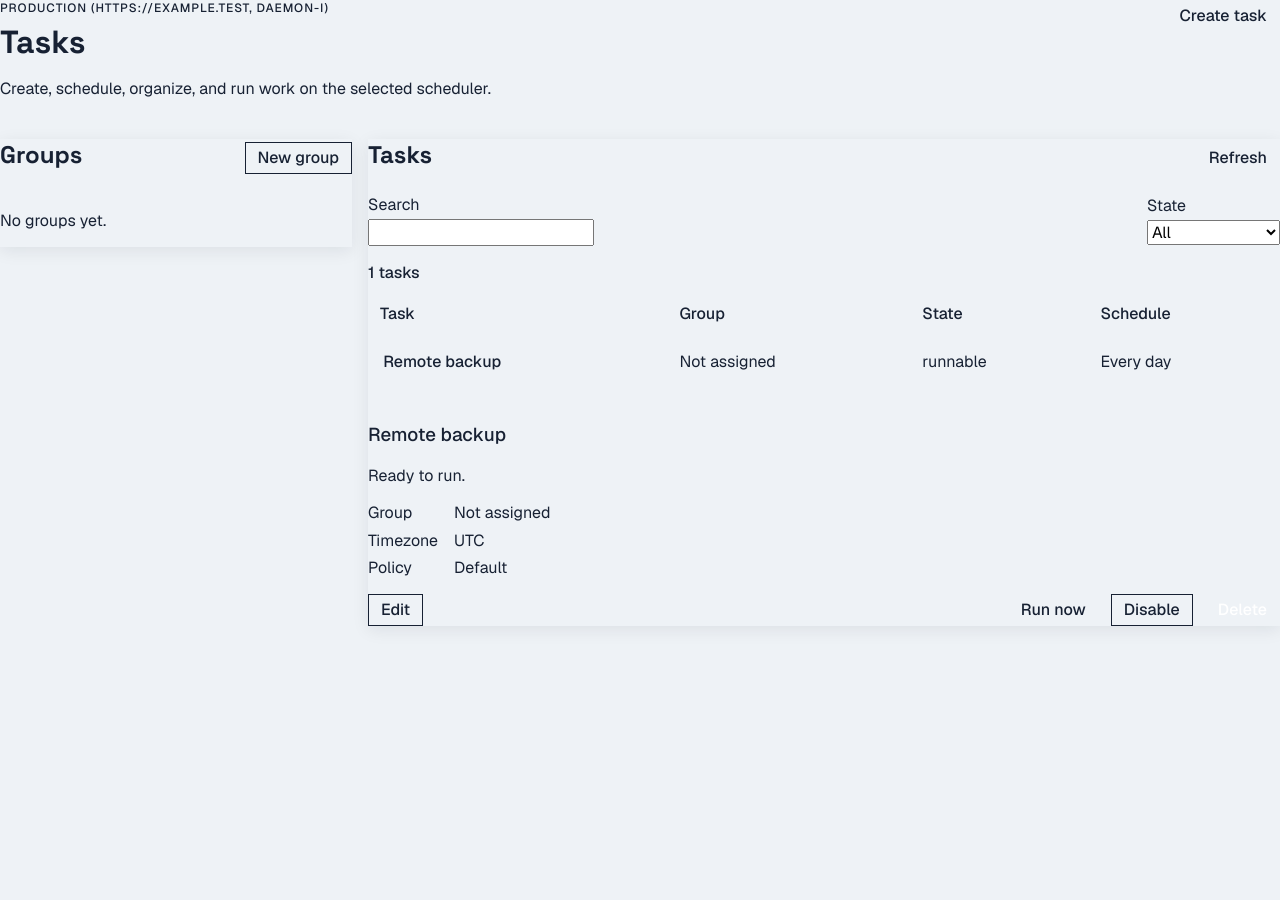
forwards remote target and capability boundaries through the populated workspace
Click the button "Remote backup" at coordinates (442, 361), box [380,348,504,375]
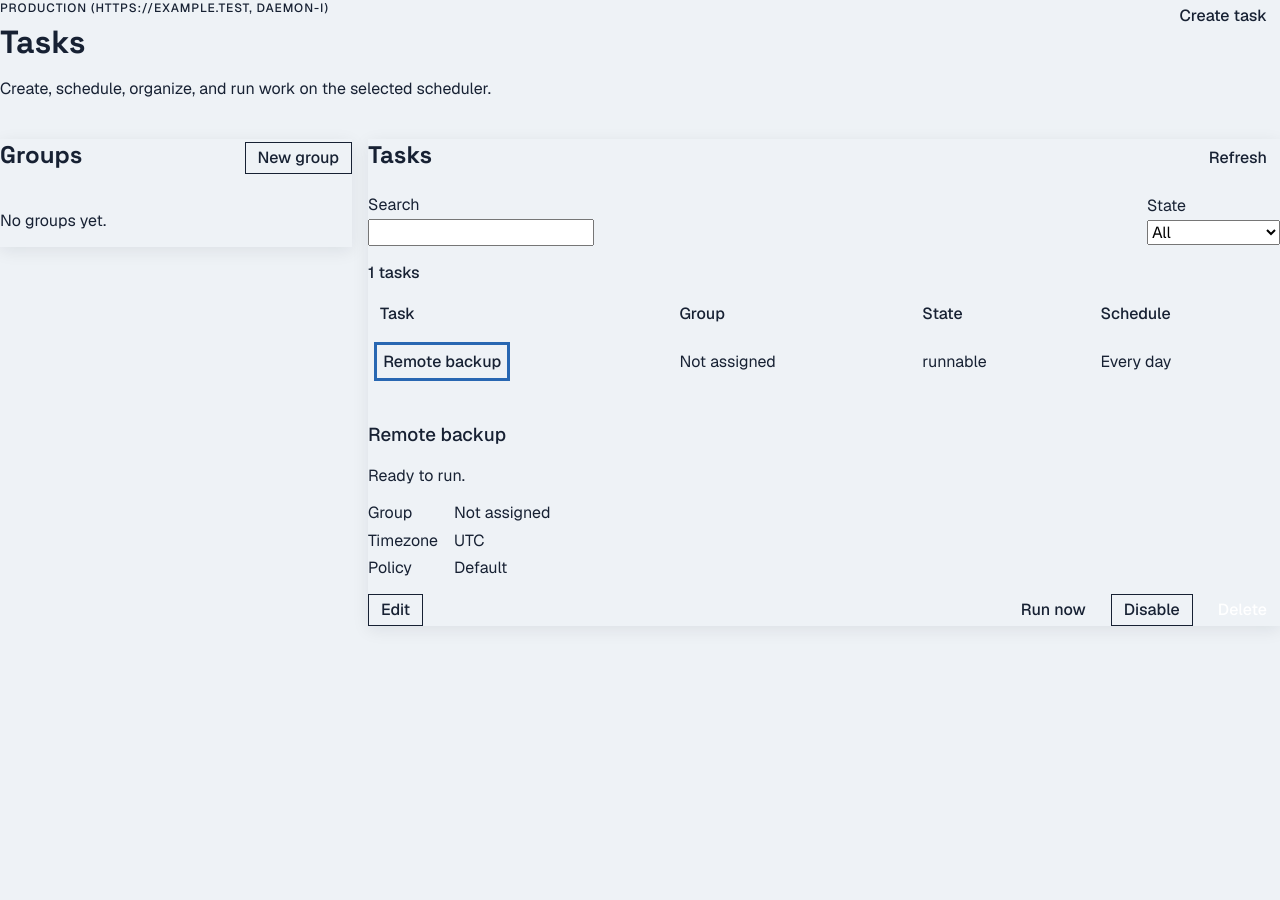
Expected: the button "New group" is disabled, [244,142,352,174]
Expected: the button "Edit" is disabled, [368,594,423,626]
Click the button "Create task" at coordinates (1223, 16), box [1167,0,1279,32]
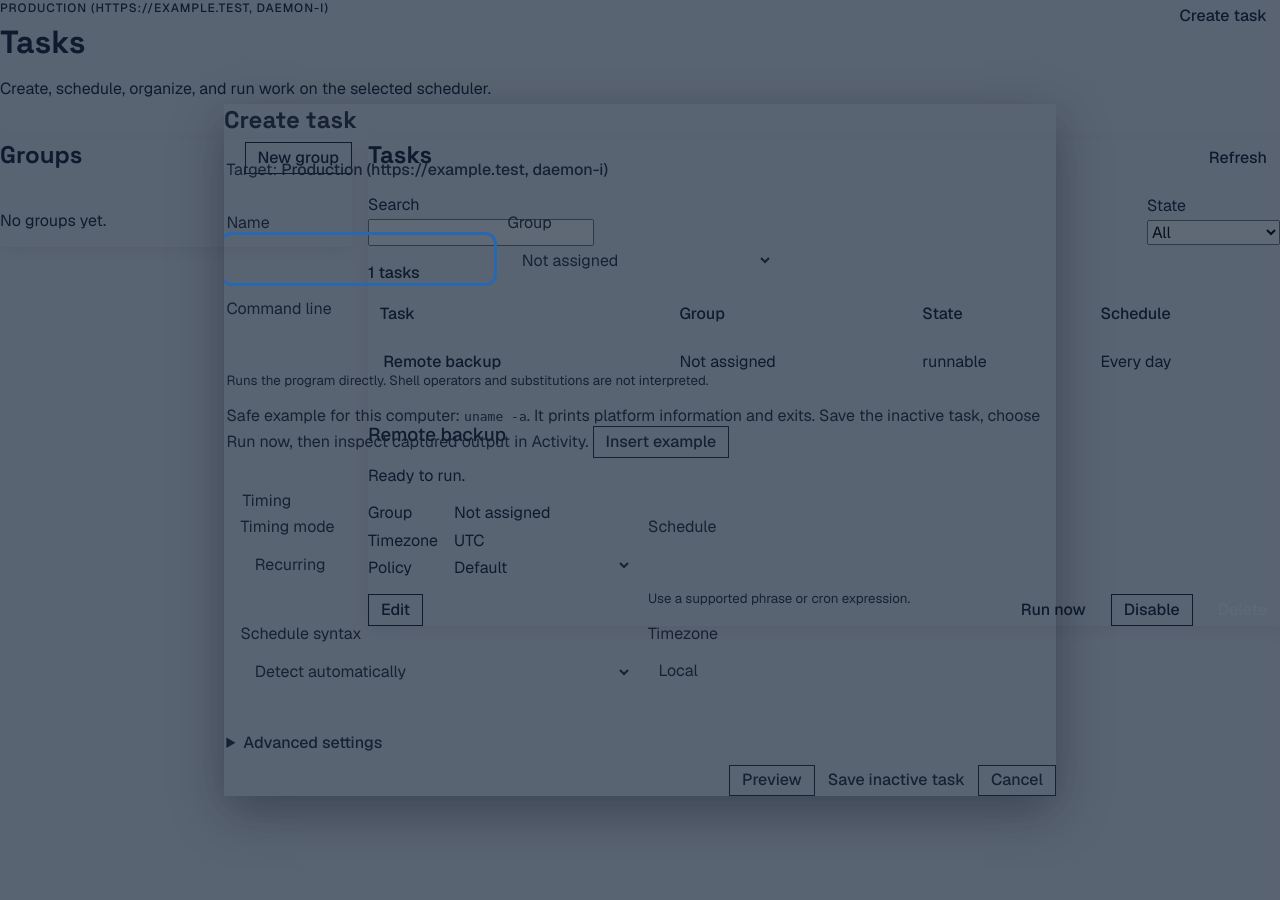
Expected: the 1st text "Production (https://example.test, daemon-i)" is shown, [0,0,329,16]
Expected: the button "Preview" is disabled, [729,765,815,796]
